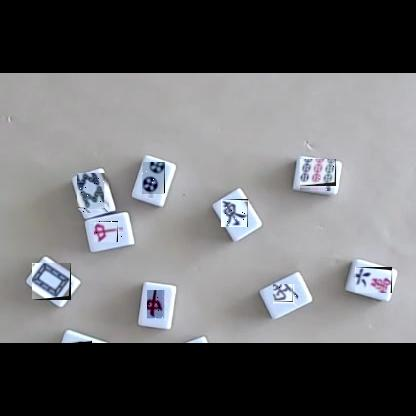1z: (221, 199, 248, 227)
2p: (142, 163, 165, 198)
3z: (274, 285, 298, 307), (70, 340, 92, 343)
5z: (32, 263, 71, 300)
6m: (355, 267, 392, 293)
7z: (148, 291, 168, 322), (95, 221, 123, 242)
8s: (78, 174, 109, 213)
9p: (300, 160, 336, 191)
